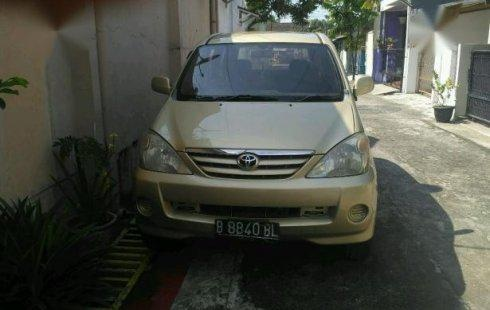plate: (214, 219, 281, 241)
